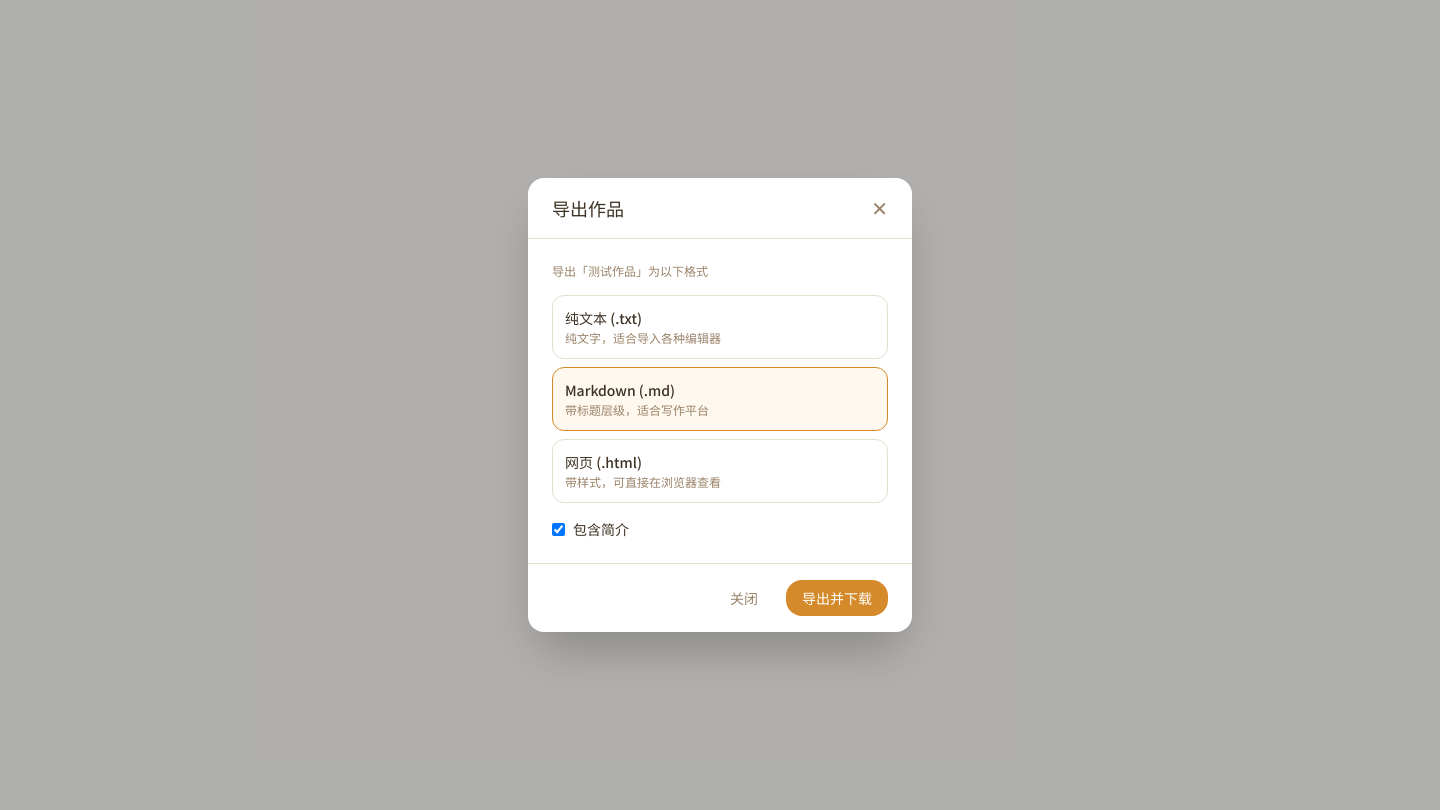
Test: ExportDialog › should show error when export returns null
Click the button "导出并下载" at (837, 598), box [786,580,888,616]
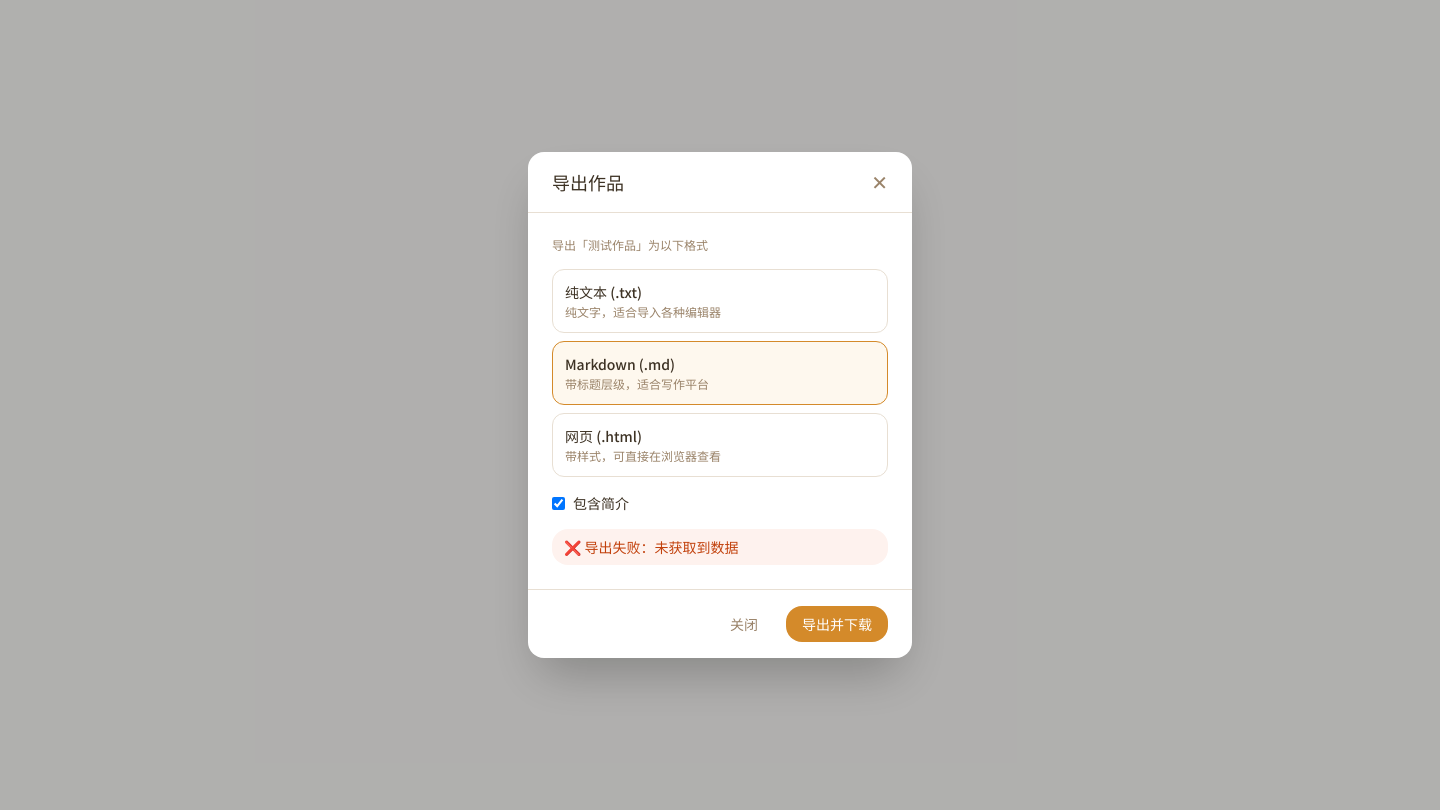
Check: the text "❌ 导出失败：未获取到数据" is shown, box [552,529,888,565]
